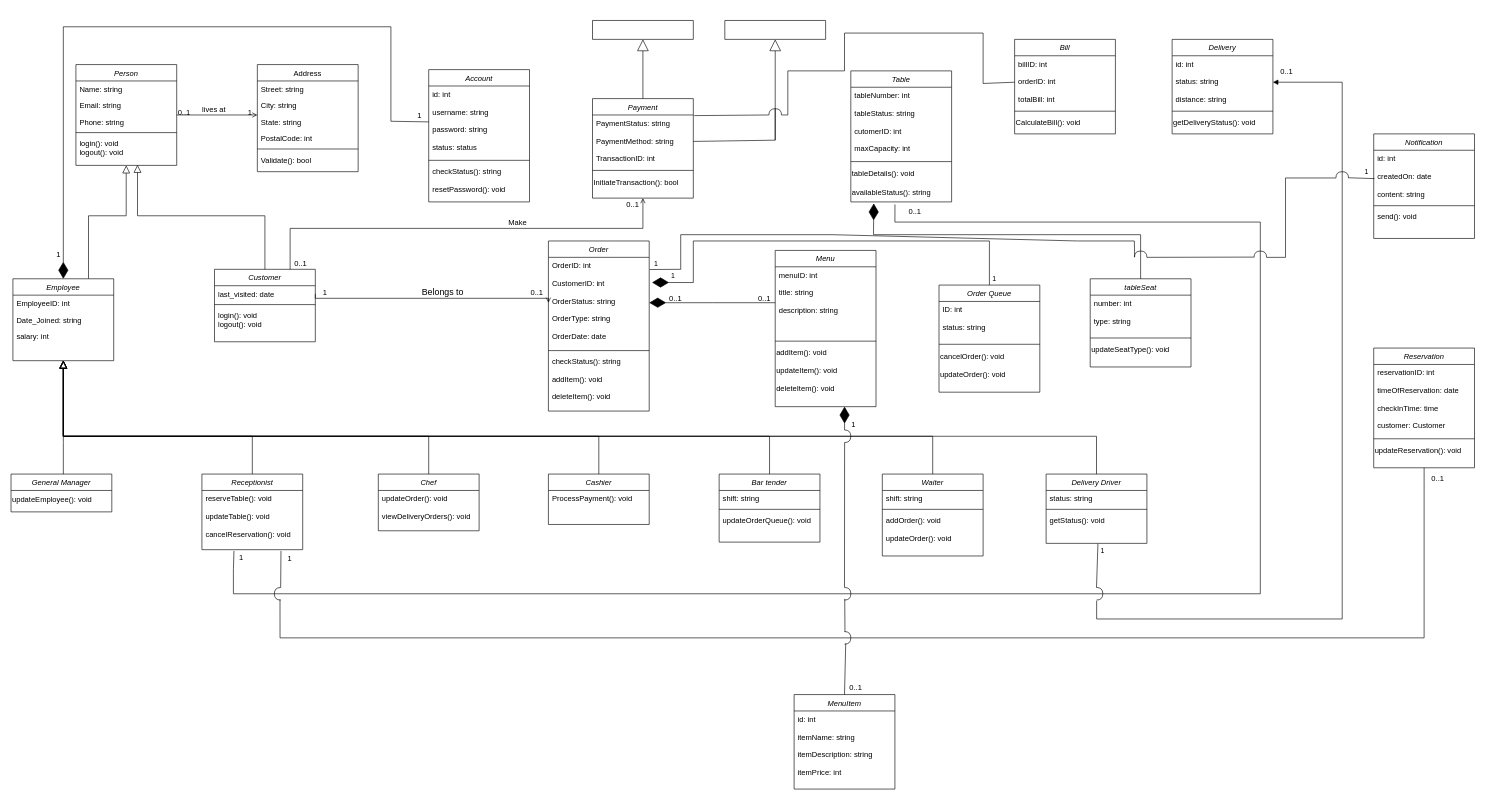
Image size: 1486x800. Some labels were removed from this diagram. The centre of each missing label's shape, as x and y in pixels:
Card: point (642, 29)
Cash: point (775, 29)
